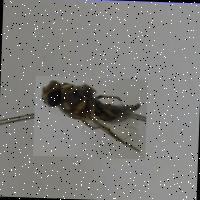Oriental-fruit-fly: (34, 76, 148, 160)
